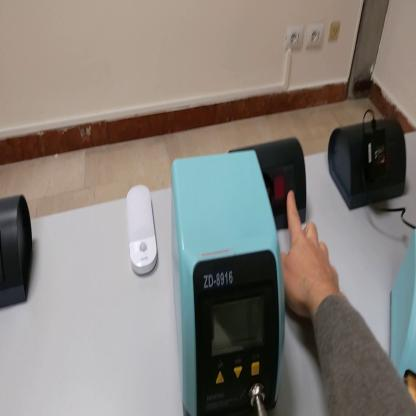hand: (279, 191, 339, 313)
socket: (229, 137, 307, 235), (329, 118, 409, 210)
welder base: (388, 229, 416, 405)
welder station: (169, 158, 288, 415)
